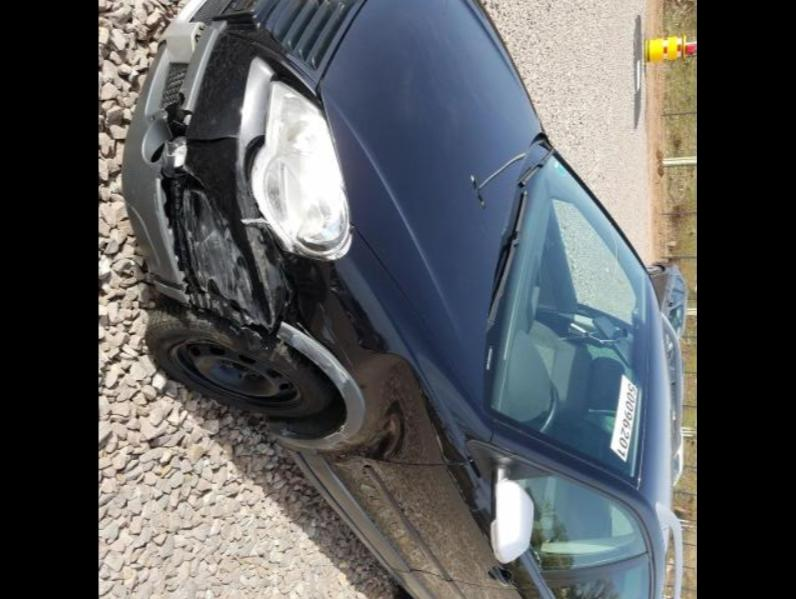Broken part: (122, 0, 363, 338)
Cracked: (610, 221, 618, 282)
Dent: (314, 352, 424, 462), (330, 270, 388, 352), (282, 256, 324, 334)
Missing part: (221, 0, 263, 16)
Scratch: (172, 164, 258, 332), (292, 322, 348, 396), (126, 200, 162, 272), (320, 306, 356, 376), (432, 420, 448, 462), (448, 470, 466, 500), (322, 422, 346, 438), (346, 310, 356, 323), (330, 284, 340, 294), (358, 336, 364, 346)
